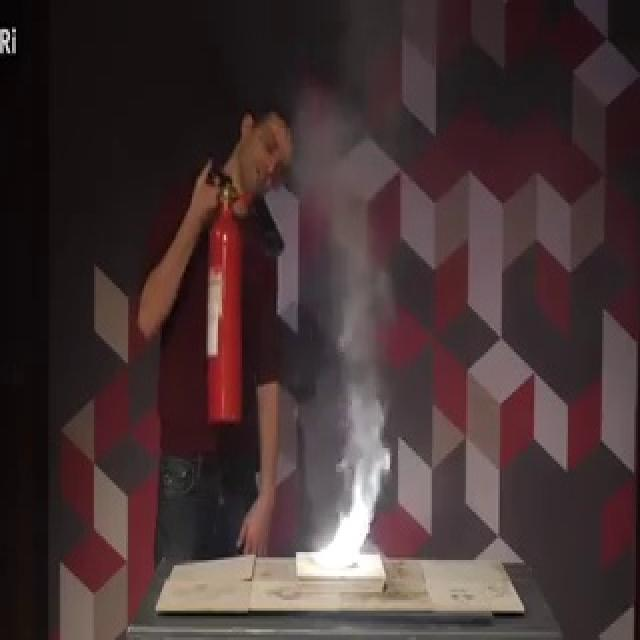Fire: (303, 437, 381, 576)
Smoke: (295, 7, 419, 410)
